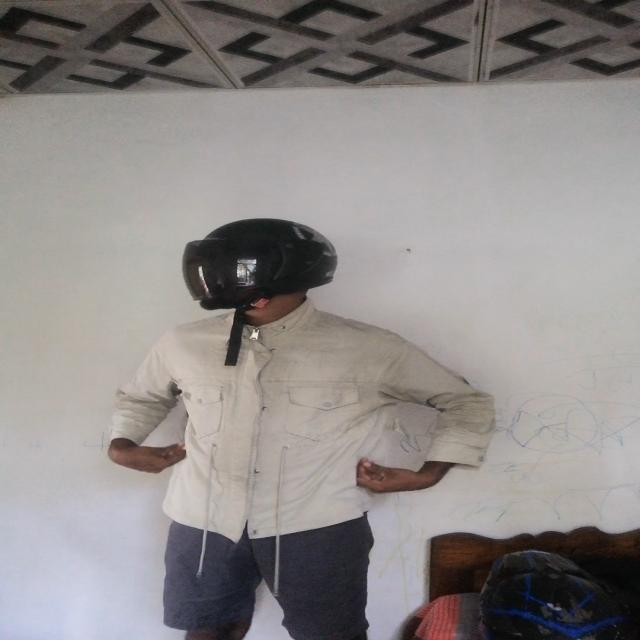Helmet_Wearer: (156, 206, 347, 336)
Jacket_Wearer: (128, 303, 500, 550)
Person: (120, 206, 526, 640)
